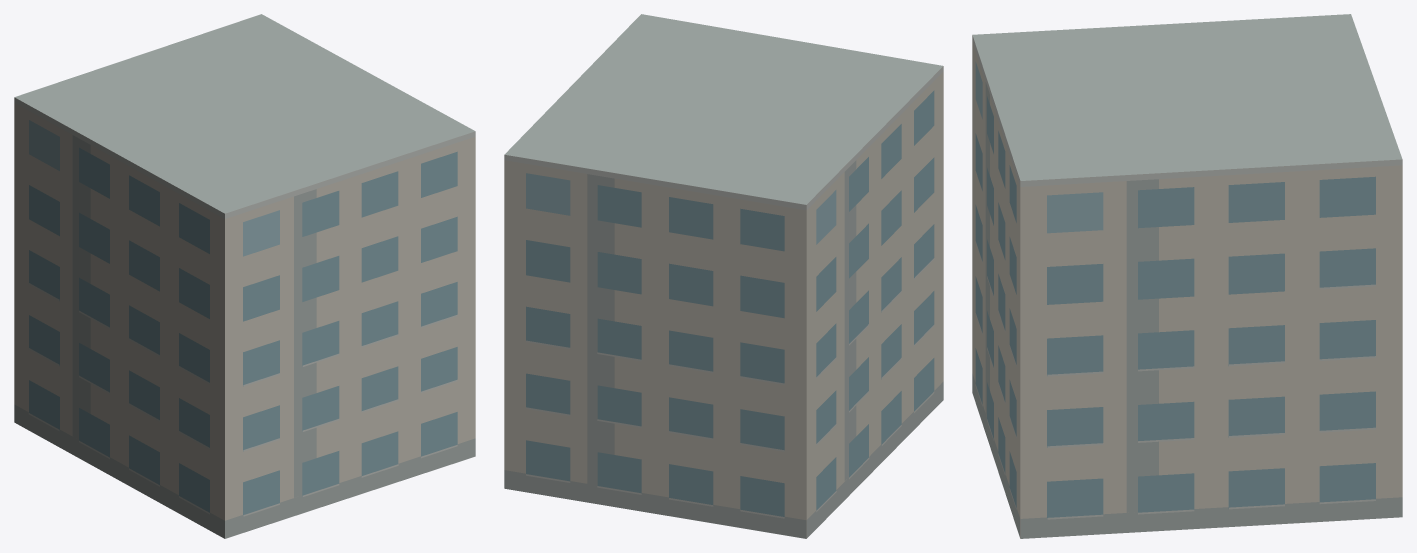
Rendered from survey-upis-32563678.glb.
The picture shows the model from 3 angles, left to right: view 1: azimuth 30°, elevation 25°; view 2: azimuth 150°, elevation 25°; view 3: azimuth 270°, elevation 25°; orthographic projection. The views are drawn at different scales.
Parts seen in each view (by area): view 1: survey-upis-32563678.tmp; view 2: survey-upis-32563678.tmp; view 3: survey-upis-32563678.tmp.
Part boxes in pixels (<box>): survey-upis-32563678.tmp: <box>14,14,475,538</box>; survey-upis-32563678.tmp: <box>504,14,943,538</box>; survey-upis-32563678.tmp: <box>972,14,1402,538</box>.
Size of the model in its own units: 14.63 by 14.6 by 15.92.
